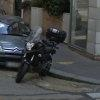Motorcycle: (11, 23, 64, 93)
